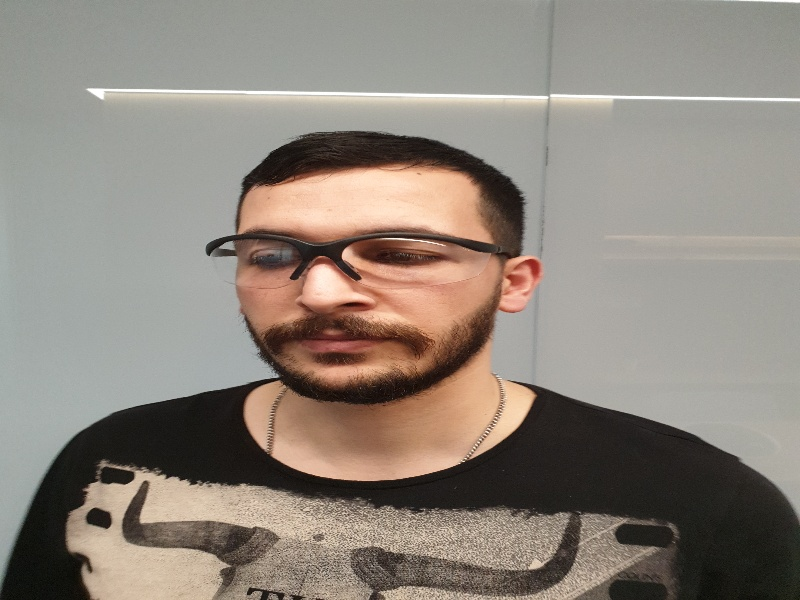Gozluk: (204, 229, 512, 300)
